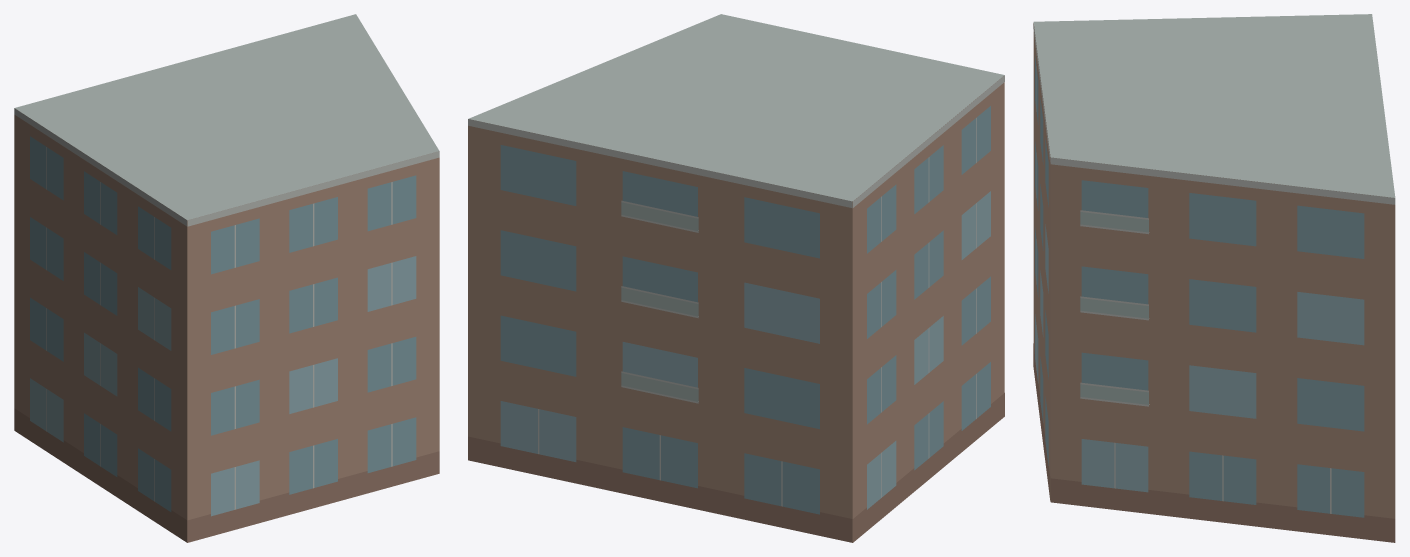
Rendered from residential-99fd68f3-8f68-4644-937d-922fcd713c81.glb.
3 renders of one model, left to right at view 1: azimuth 30°, elevation 25°; view 2: azimuth 150°, elevation 25°; view 3: azimuth 270°, elevation 25°, orthographic. The views are drawn at different scales.
Parts seen in each view (by area): view 1: residential-99fd68f3-8f68-4644-937d-922fcd713c81.tmp; view 2: residential-99fd68f3-8f68-4644-937d-922fcd713c81.tmp; view 3: residential-99fd68f3-8f68-4644-937d-922fcd713c81.tmp.
Part boxes in pixels (left/top/right/bottom): residential-99fd68f3-8f68-4644-937d-922fcd713c81.tmp: left=14, top=14, right=439, bottom=542; residential-99fd68f3-8f68-4644-937d-922fcd713c81.tmp: left=468, top=14, right=1004, bottom=542; residential-99fd68f3-8f68-4644-937d-922fcd713c81.tmp: left=1033, top=14, right=1395, bottom=542.
Bounding box in the file's own units: 13.97 × 12.2 × 11.61.
